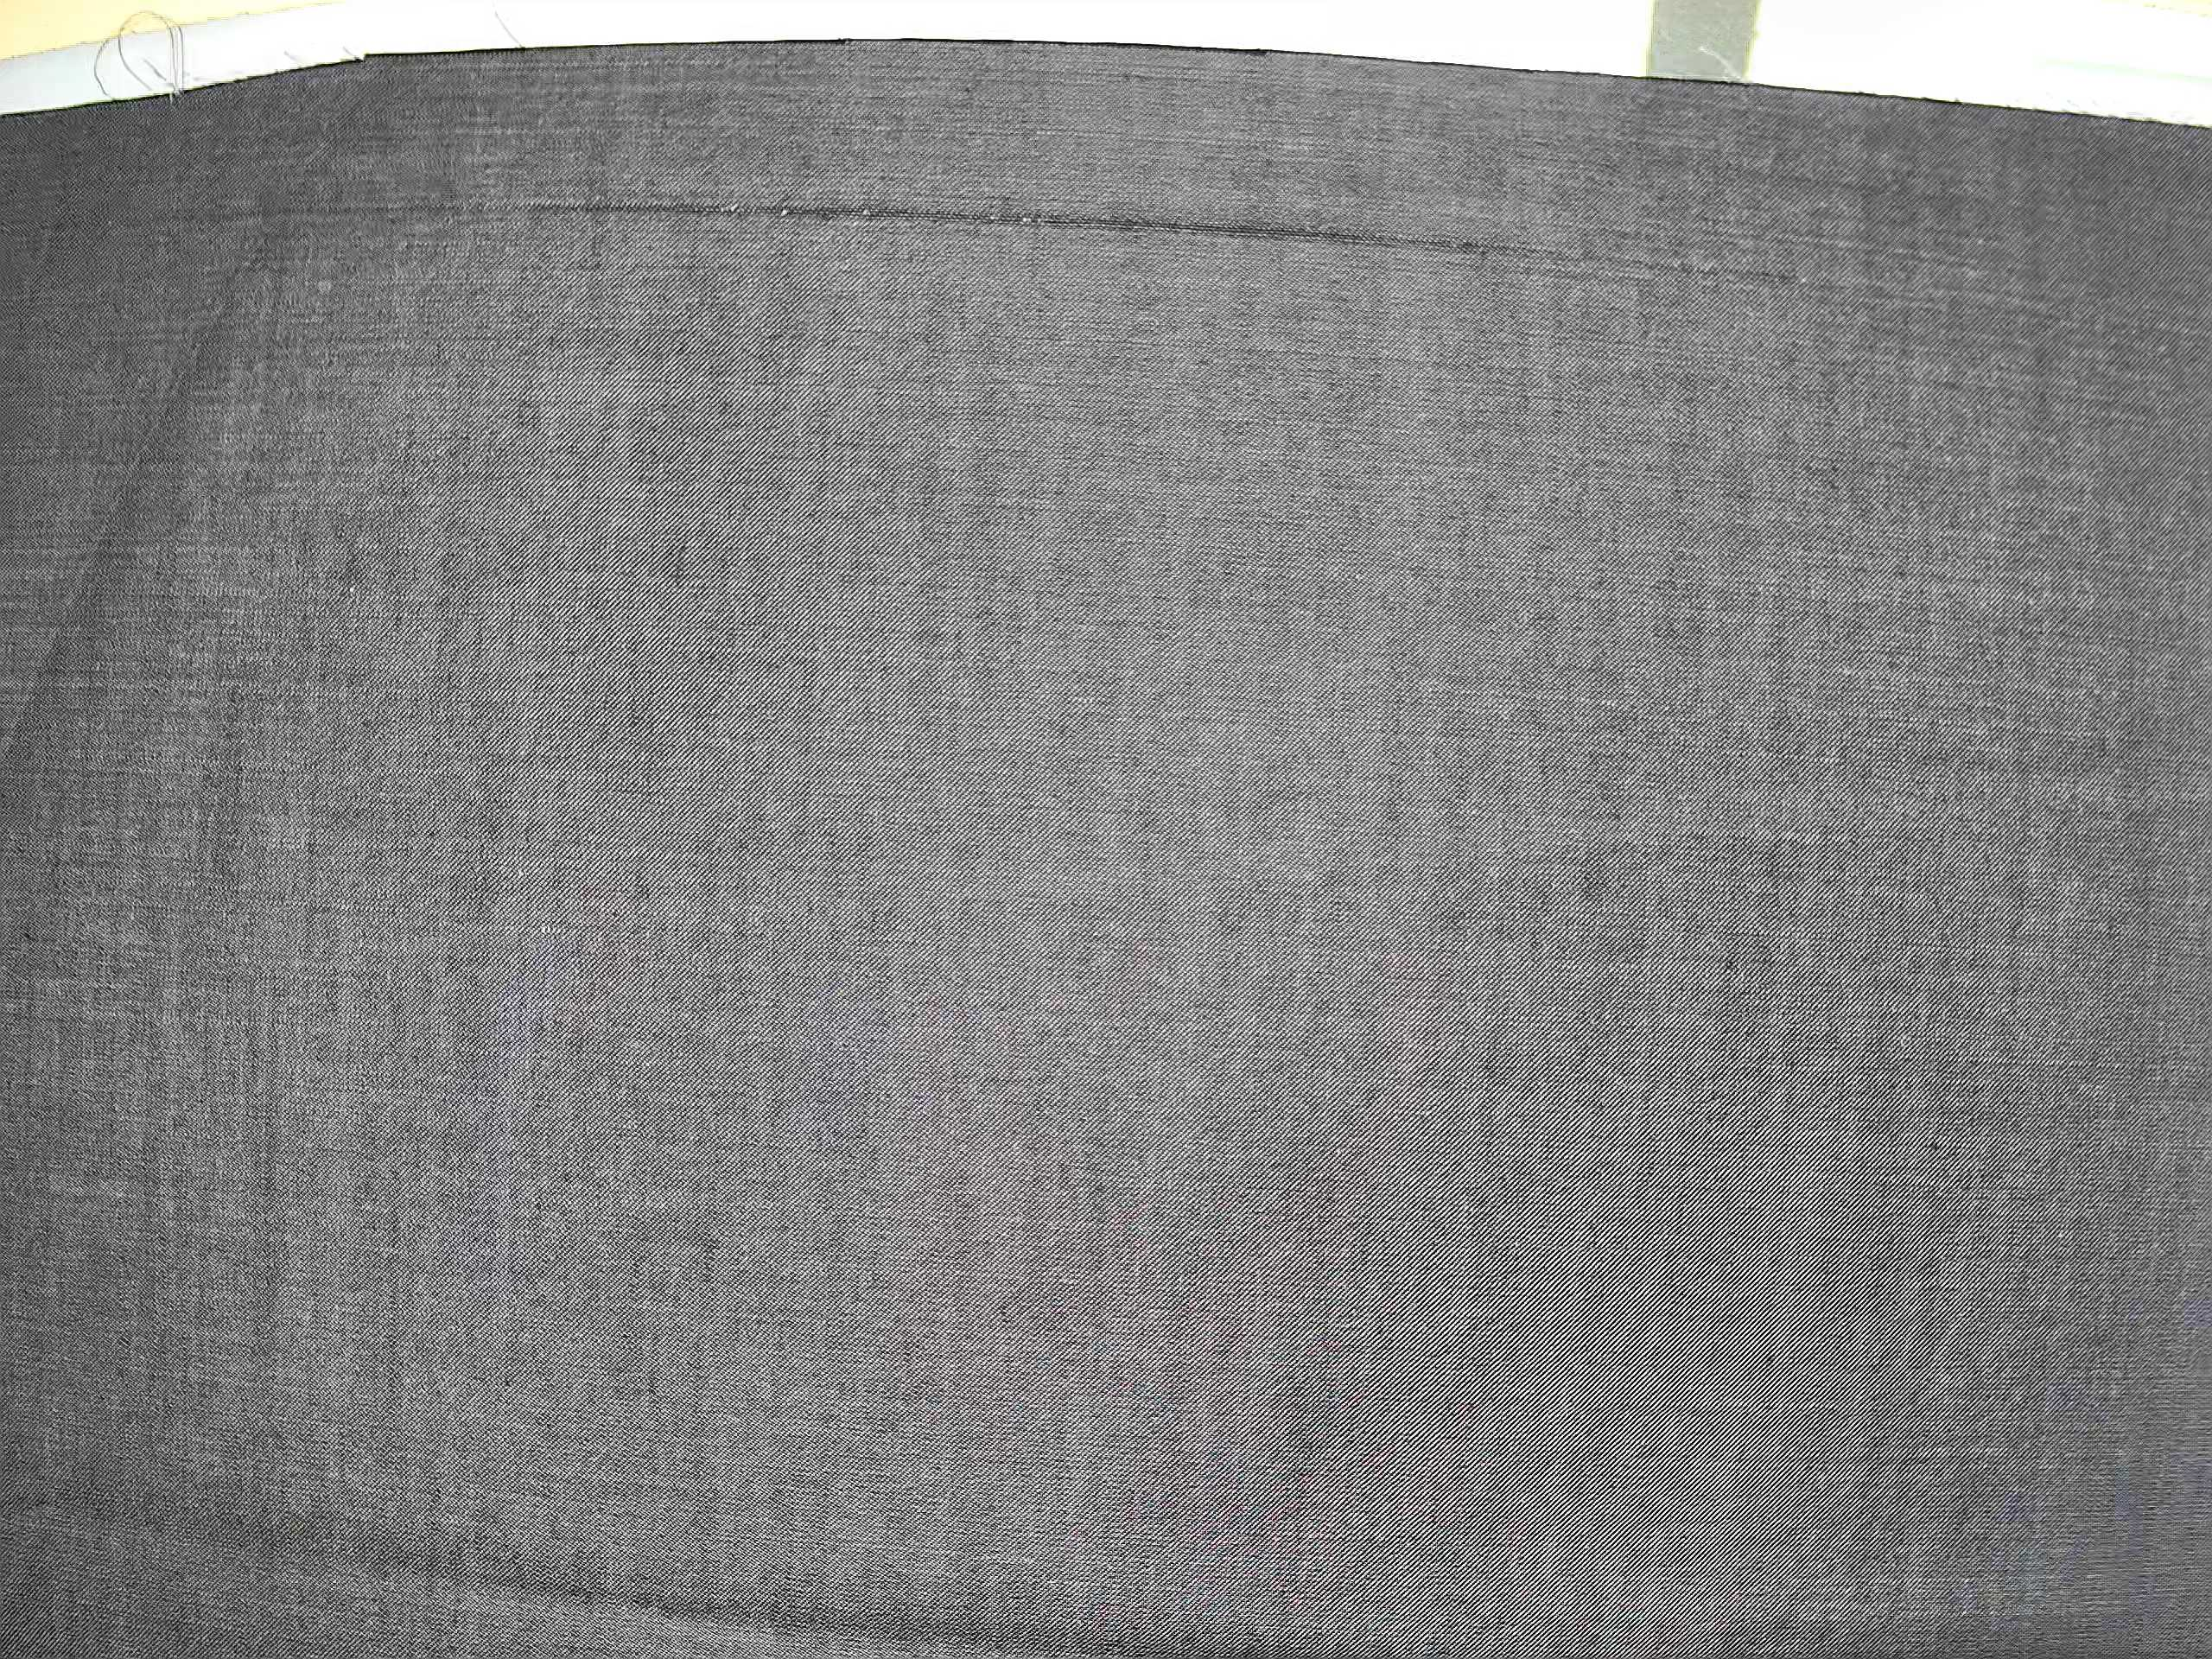thin-spinning: (523, 164, 1548, 281)
